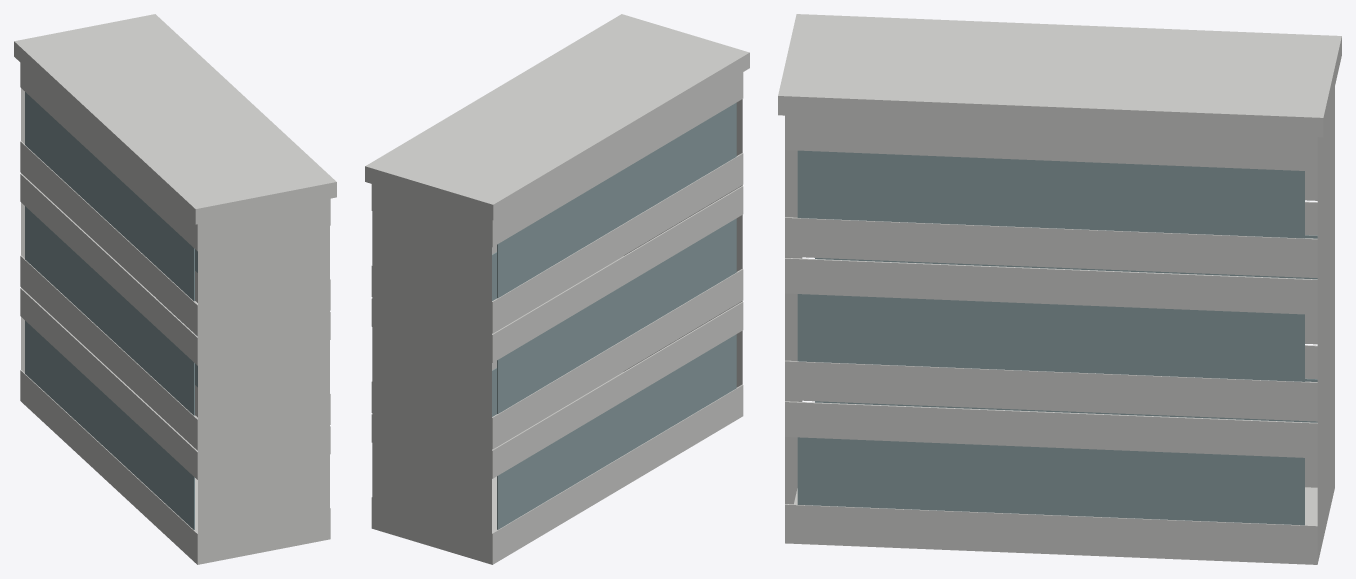
The picture shows the model from 3 angles, left to right: view 1: azimuth 30°, elevation 25°; view 2: azimuth 150°, elevation 25°; view 3: azimuth 270°, elevation 25°; orthographic projection. The views are drawn at different scales.
Visible parts, largest first — view 1: bridgePI__wall, bridgePI__glass; view 2: bridgePI__wall, bridgePI__glass; view 3: bridgePI__wall, bridgePI__glass.
Part boxes in pixels (bbox=[...]): bridgePI__wall: bbox=[14, 14, 336, 564]; bridgePI__glass: bbox=[25, 92, 197, 529]; bridgePI__wall: bbox=[365, 14, 749, 564]; bridgePI__glass: bbox=[492, 102, 736, 529]; bridgePI__wall: bbox=[778, 14, 1341, 564]; bridgePI__glass: bbox=[797, 150, 1317, 525].
Bounding box in the file's own units: 5.75 × 11.6 × 13.19.
